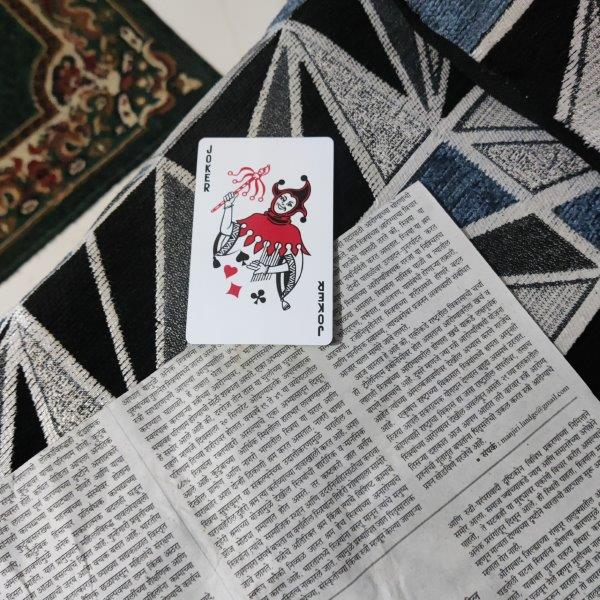Joker: (185, 135, 335, 348)
